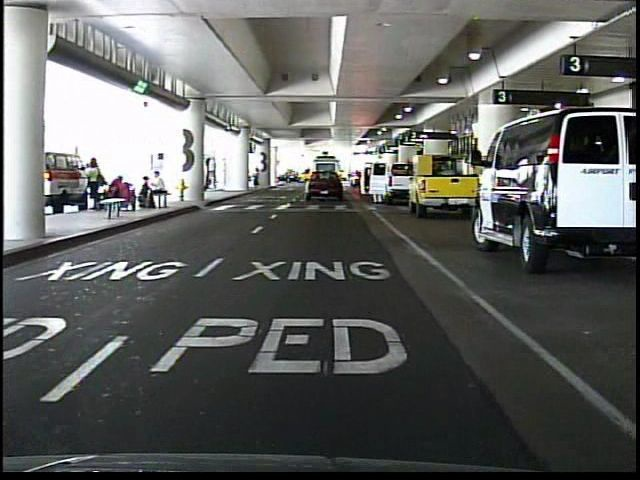person: (251, 166, 262, 191)
